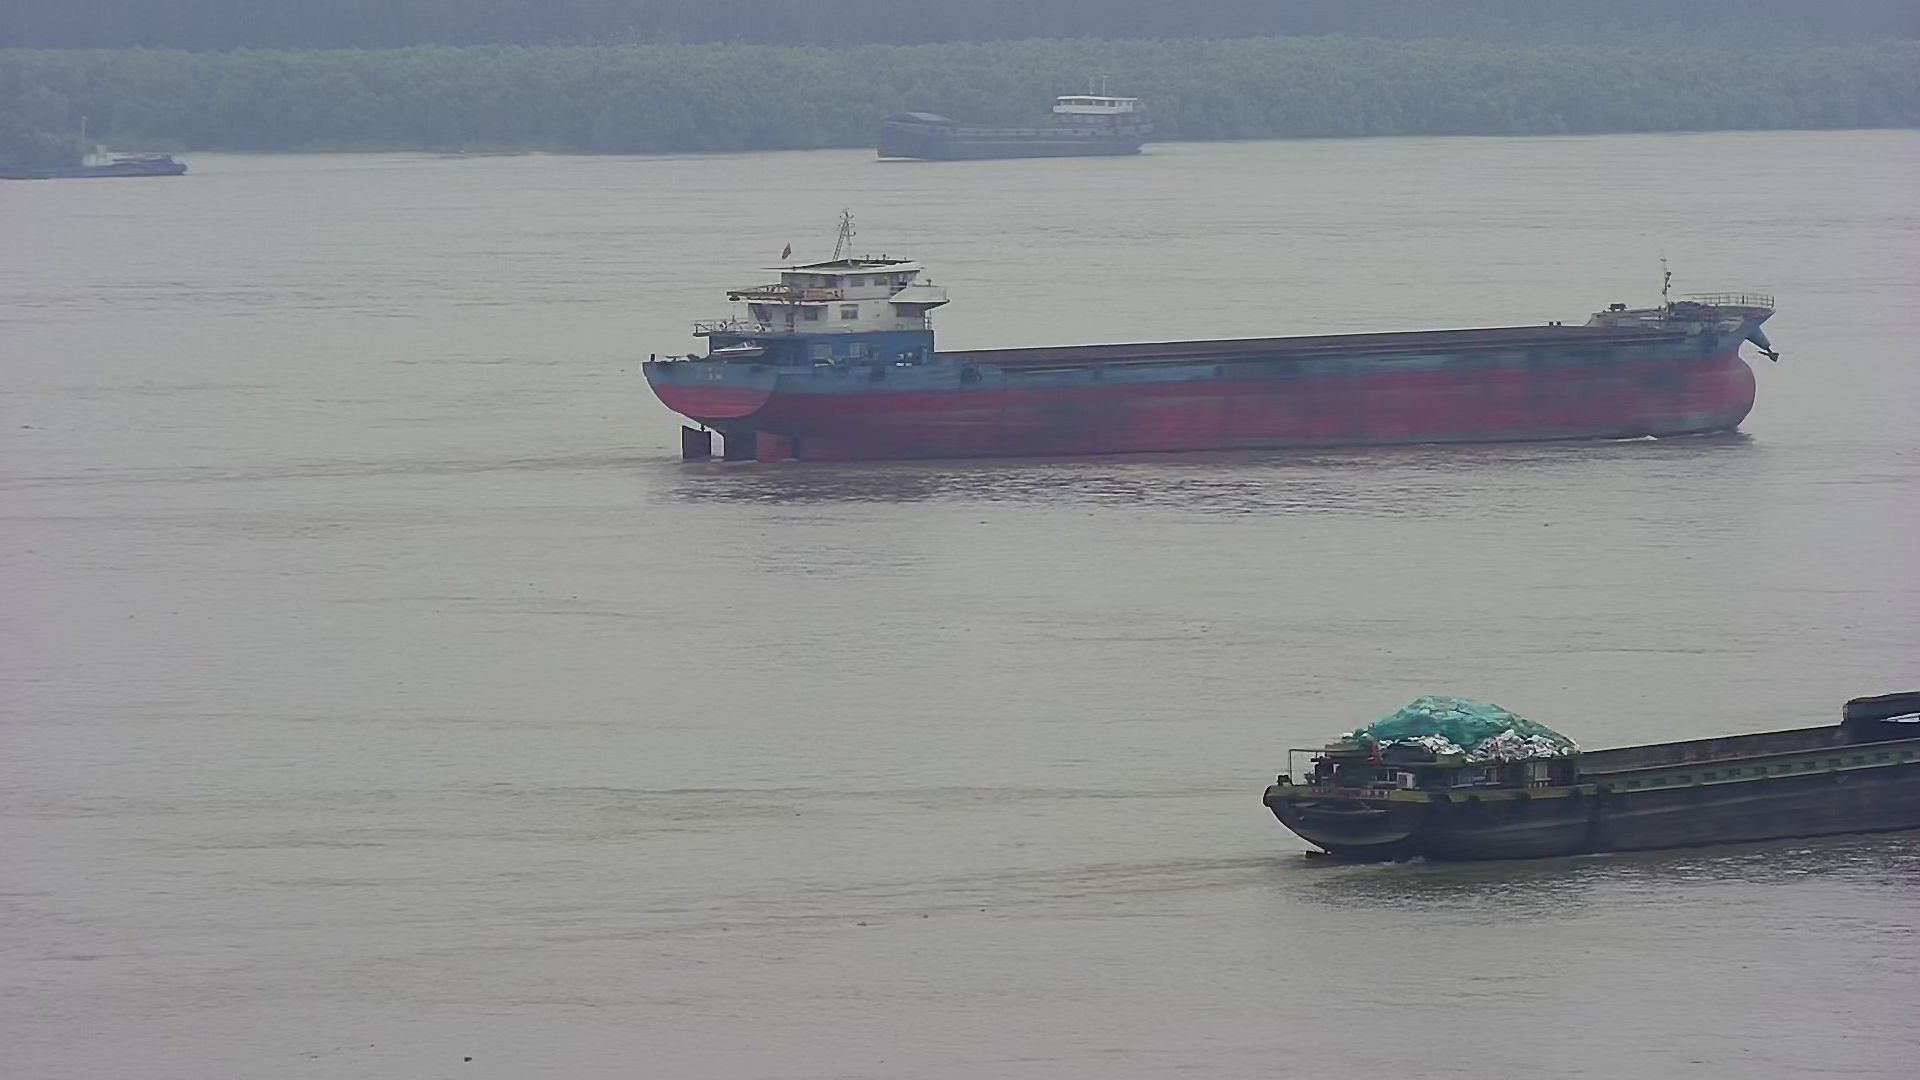boat: (1, 105, 200, 185)
ship: (634, 216, 1789, 514), (1261, 655, 1920, 913), (865, 73, 1159, 165)
